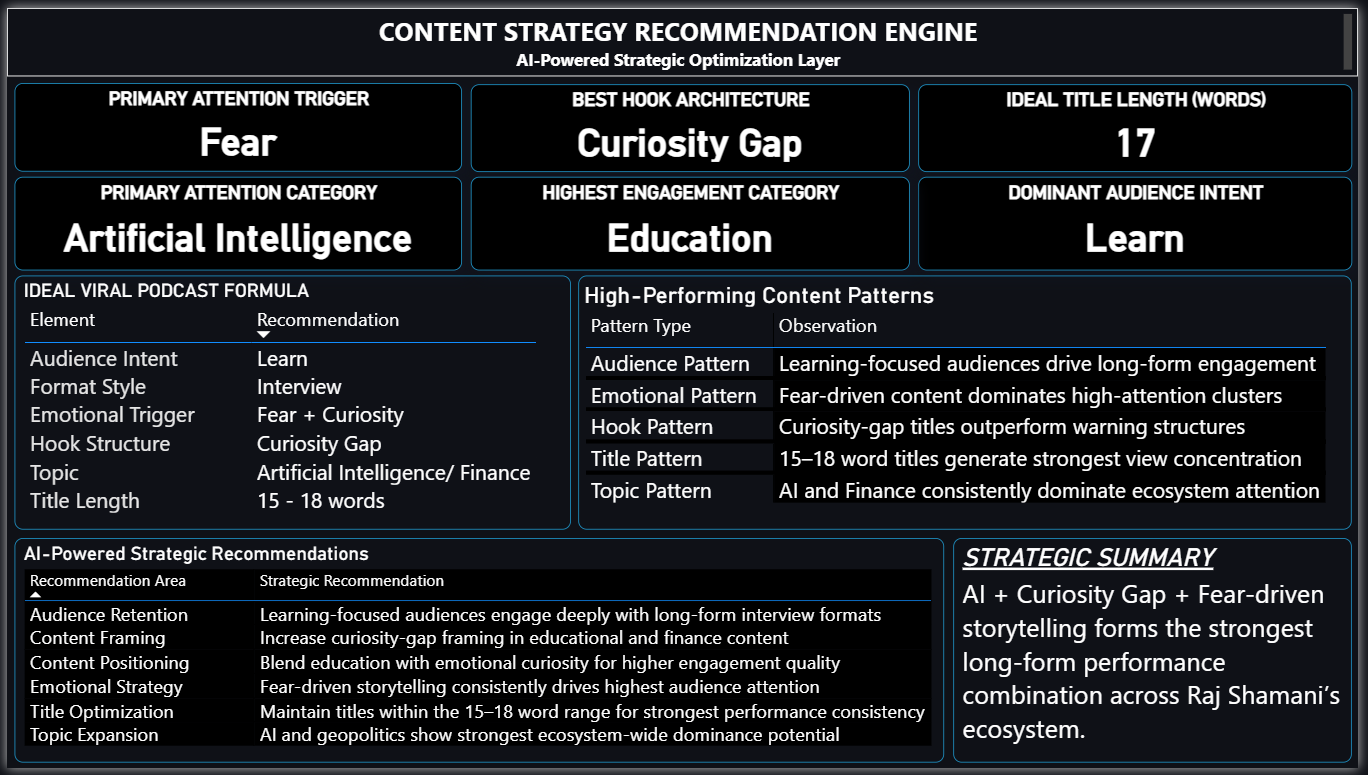

The dashboard page shown, as its layout file describes it:
{"tool":"powerbi","page":{"name":"Page 2","canvas":[1280,720],"ordinal":1},"visuals":[{"type":"card","title":"PRIMARY ATTENTION TRIGGER","fields":{"Values":["Min(raj_shamani_ai_classified.emotional_trigger)"]},"box":[7.1,71.1,424,84.1],"z":0},{"type":"textbox","box":[0,0,1280.2,65.1],"z":1000},{"type":"card","title":"BEST HOOK ARCHITECTURE","fields":{"Values":["Min(raj_shamani_ai_classified.hook_type)"]},"box":[439.4,72.2,415.7,82.9],"z":2000},{"type":"card","title":"IDEAL TITLE LENGTH (WORDS)","fields":{"Values":["Median(raj_shamani_ai_classified.title_word_count)"]},"box":[863.4,72.2,411,82.9],"z":3000},{"type":"card","title":"PRIMARY ATTENTION CATEGORY","fields":{"Values":["Min(raj_shamani_ai_classified.main_topic)"]},"box":[7.1,159.9,424,88.8],"z":4000},{"type":"card","title":"DOMINANT AUDIENCE INTENT","fields":{"Values":["Min(raj_shamani_ai_classified.audience_intent)"]},"box":[863.4,159.9,411,88.8],"z":5000},{"type":"card","title":"HIGHEST ENGAGEMENT CATEGORY","fields":{"Values":["Min(raj_shamani_ai_classified.content_type)"]},"box":[439.4,159.9,415.7,88.8],"z":6000},{"type":"tableEx","title":"IDEAL VIRAL PODCAST FORMULA","fields":{"Values":["Table.Element","Table.Recommendation"]},"box":[7.1,253.4,527,240.4],"z":7000},{"type":"tableEx","title":"High-Performing Content Patterns","fields":{"Values":["Table (2).Pattern Type","Table (2).Observation"]},"box":[541.2,253.4,733.1,240.4],"z":8000},{"type":"tableEx","title":"AI-Powered Strategic Recommendations","fields":{"Values":["Table (3).Recommendation Area","Table (3).Strategic Recommendation"]},"box":[7.1,502.1,881.1,213.2],"z":9000},{"type":"textbox","title":"STRATEGIC SUMMARY","box":[896.5,502.1,377.8,213.2],"z":10000}]}

Visuals, with their boxes in screenshot pixels (x1, y1, x2, y2), scaled from the page's 1280x720 canvas onto the 1368x775 screenshot:
"PRIMARY ATTENTION TRIGGER" card: 8:77:461:167
textbox: 0:0:1367:70
"BEST HOOK ARCHITECTURE" card: 470:78:914:167
"IDEAL TITLE LENGTH (WORDS)" card: 923:78:1362:167
"PRIMARY ATTENTION CATEGORY" card: 8:172:461:268
"DOMINANT AUDIENCE INTENT" card: 923:172:1362:268
"HIGHEST ENGAGEMENT CATEGORY" card: 470:172:914:268
"IDEAL VIRAL PODCAST FORMULA" tableEx: 8:273:571:532
"High-Performing Content Patterns" tableEx: 578:273:1362:532
"AI-Powered Strategic Recommendations" tableEx: 8:540:949:770
"STRATEGIC SUMMARY" textbox: 958:540:1362:770
